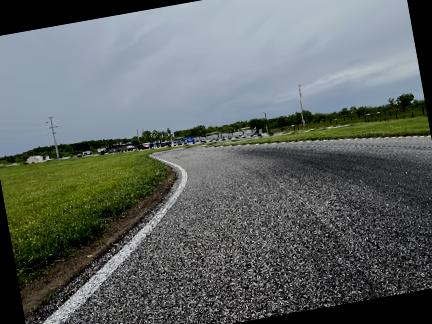Grass: (0, 151, 175, 323), (212, 117, 430, 146)
Lane: (67, 137, 431, 323)
